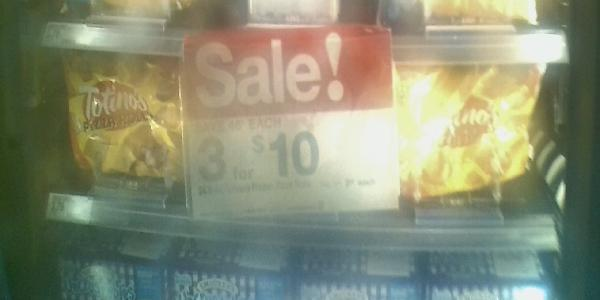icecream: (387, 60, 545, 212), (49, 45, 194, 201)
